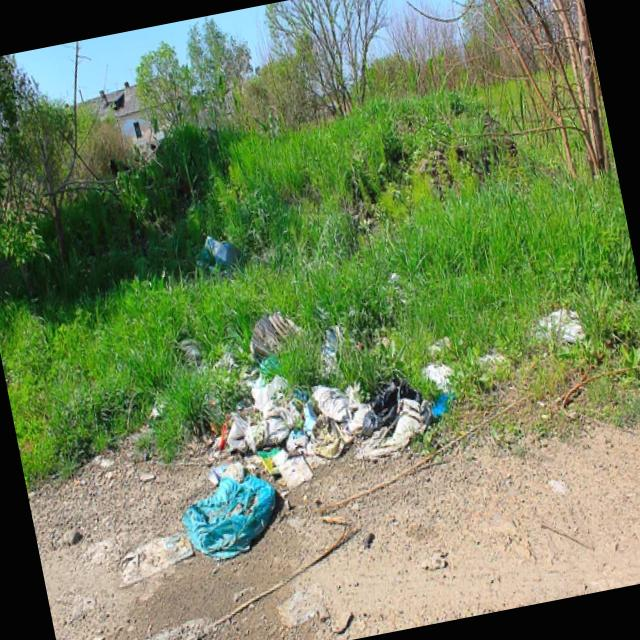garbage: (143, 312, 448, 576)
